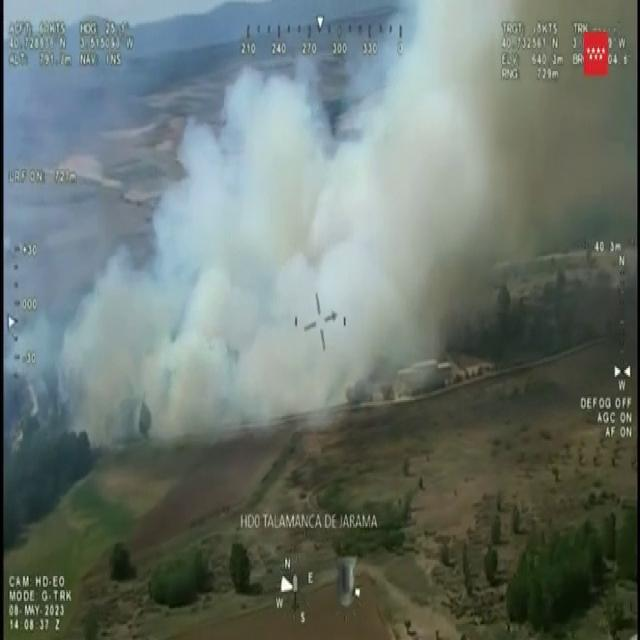Smoke: (48, 1, 572, 451)
